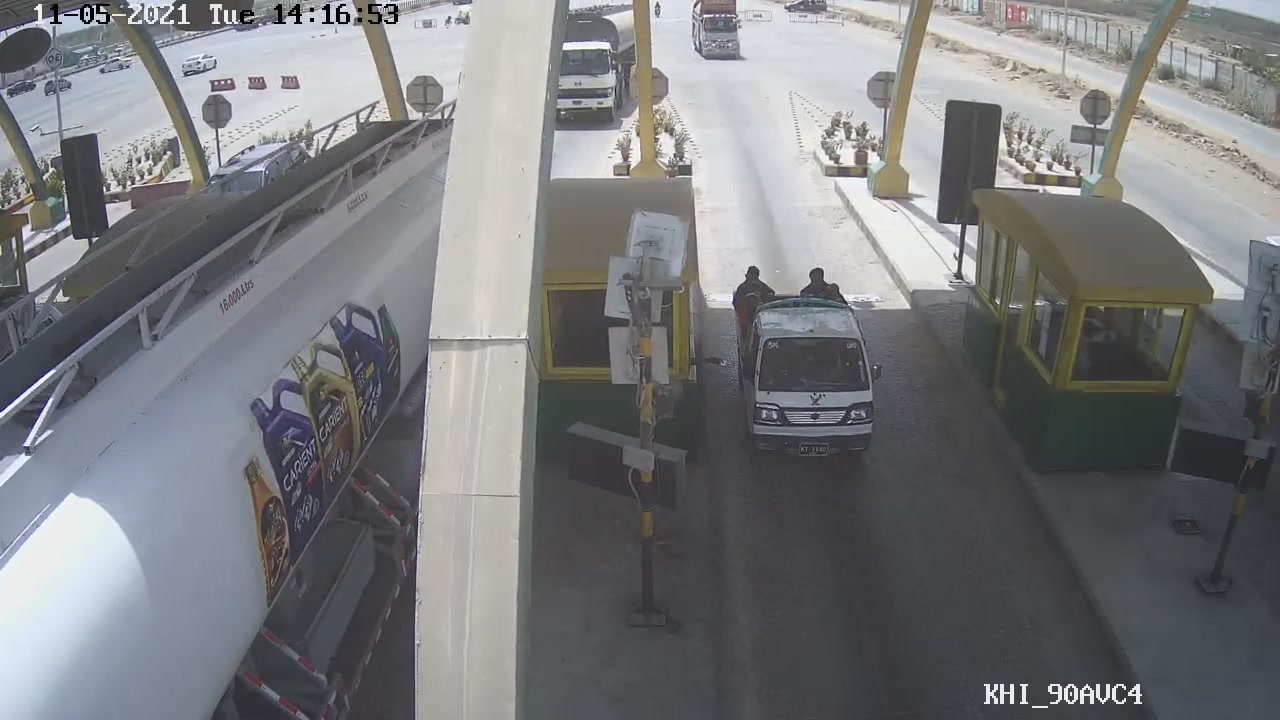F1: (732, 272, 882, 470)
